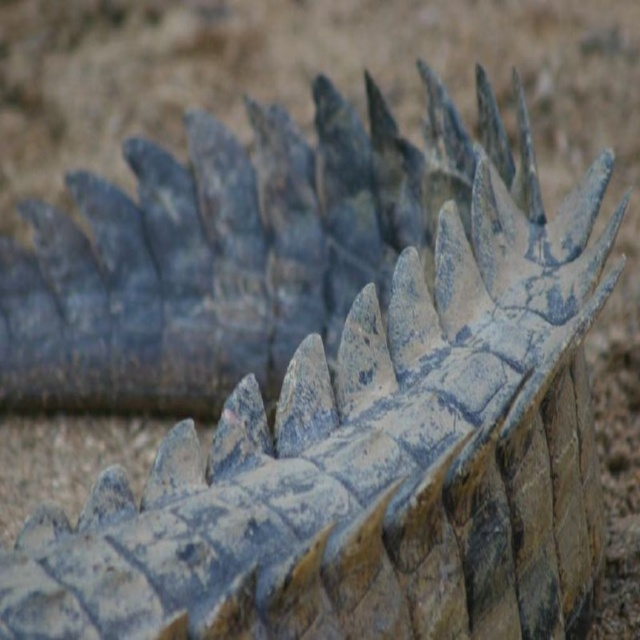Crocodile: (0, 60, 634, 639)
